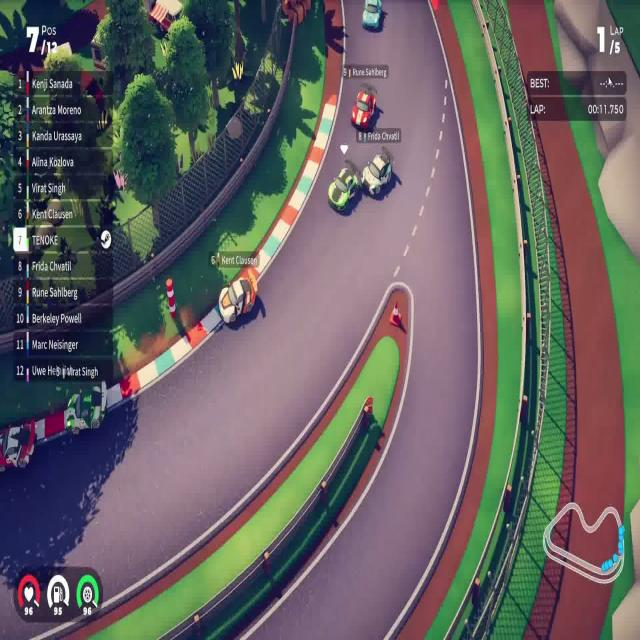car: (217, 264, 260, 325), (64, 380, 107, 434), (327, 165, 360, 212), (360, 151, 392, 197), (351, 87, 376, 130), (361, 0, 382, 31)
